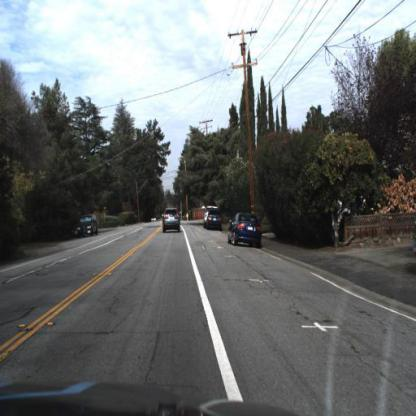car: (225, 209, 265, 256), (160, 202, 187, 238), (73, 211, 100, 243), (74, 210, 99, 241), (204, 207, 225, 232), (203, 211, 224, 231)
